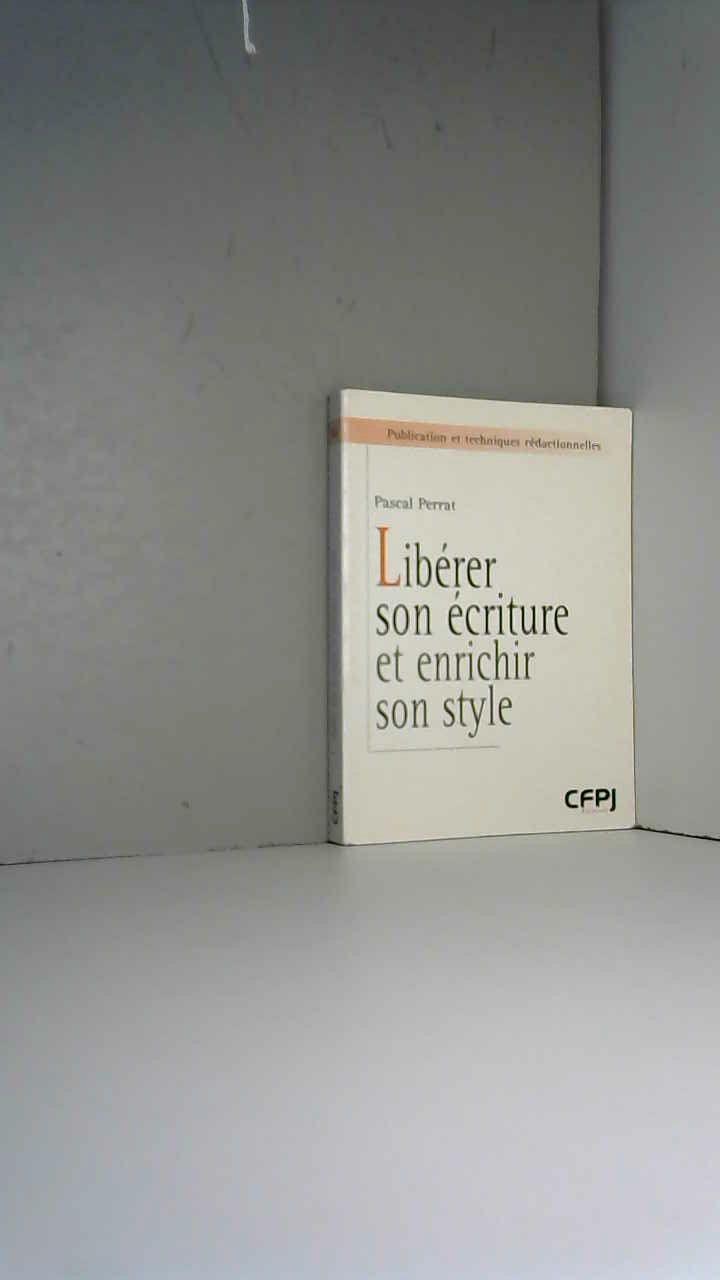book: (310, 375, 653, 864)
